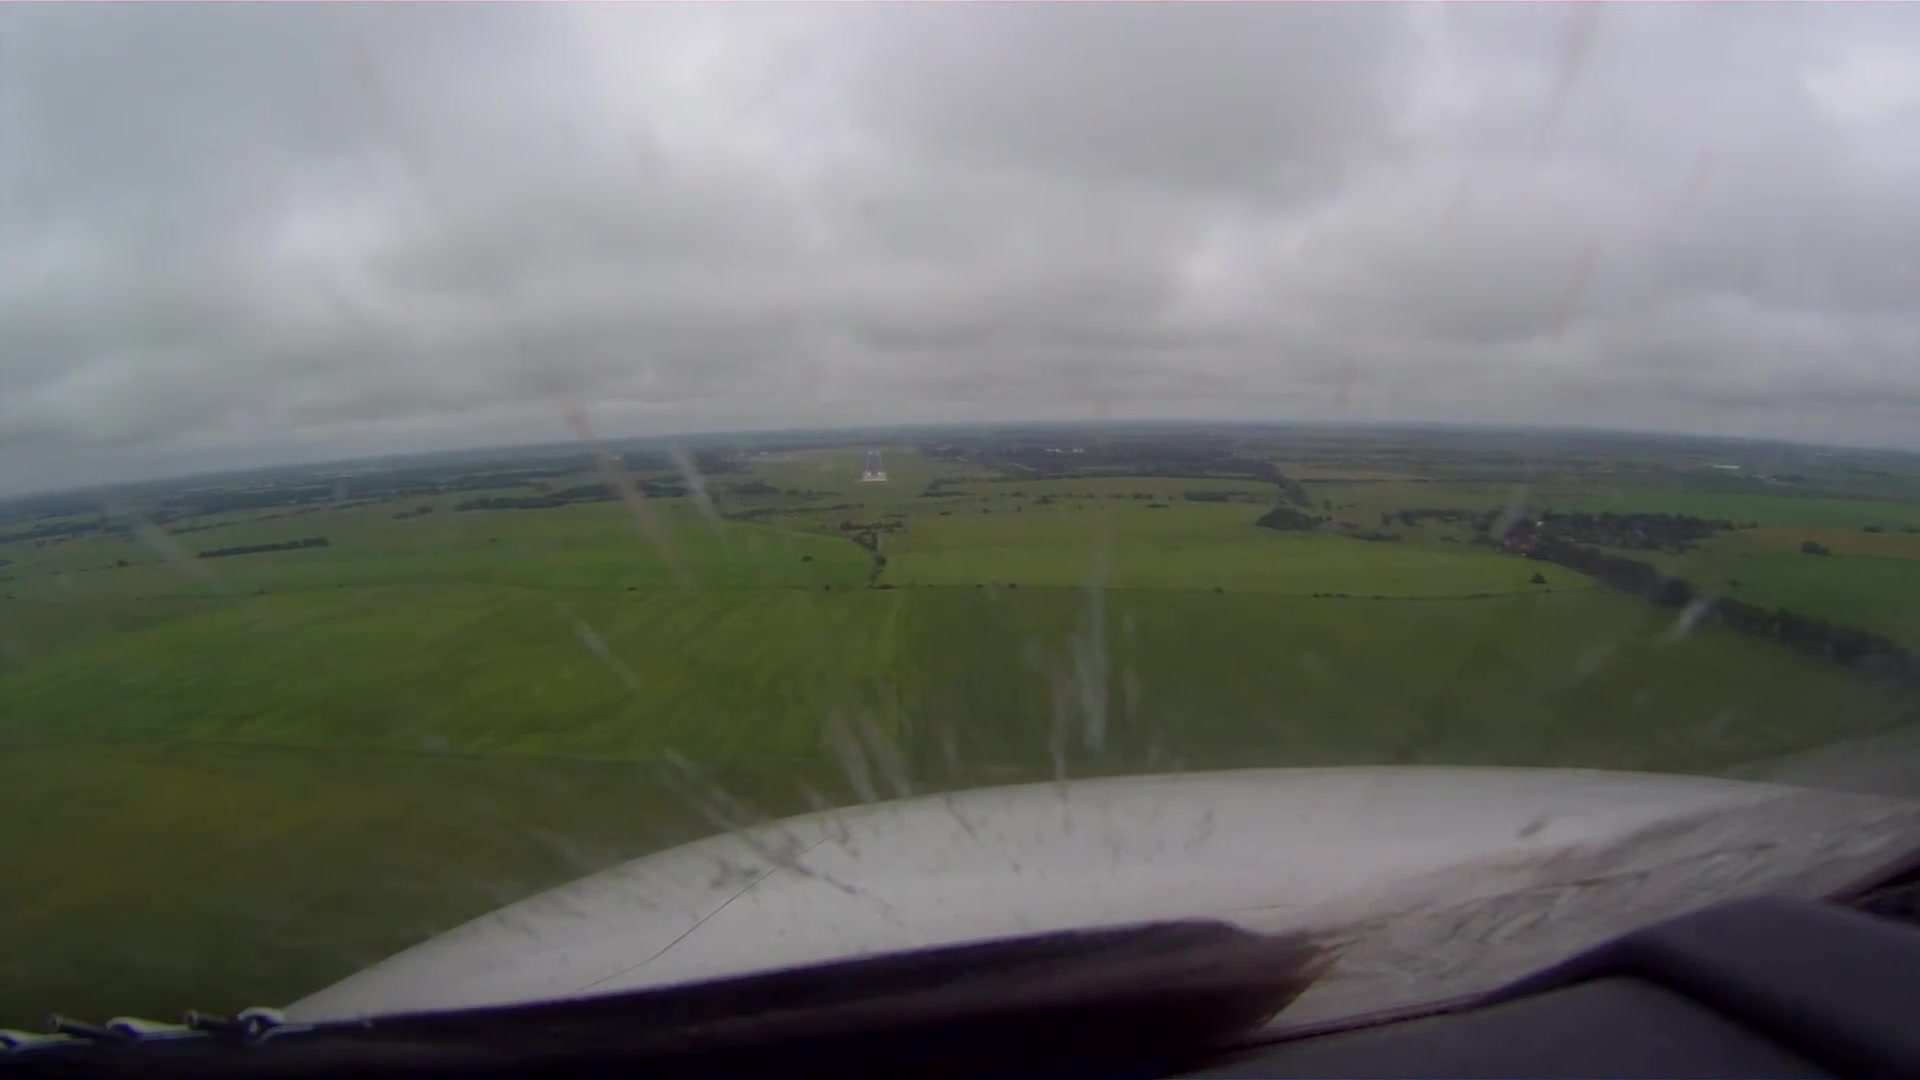runway: (860, 447, 887, 487)
